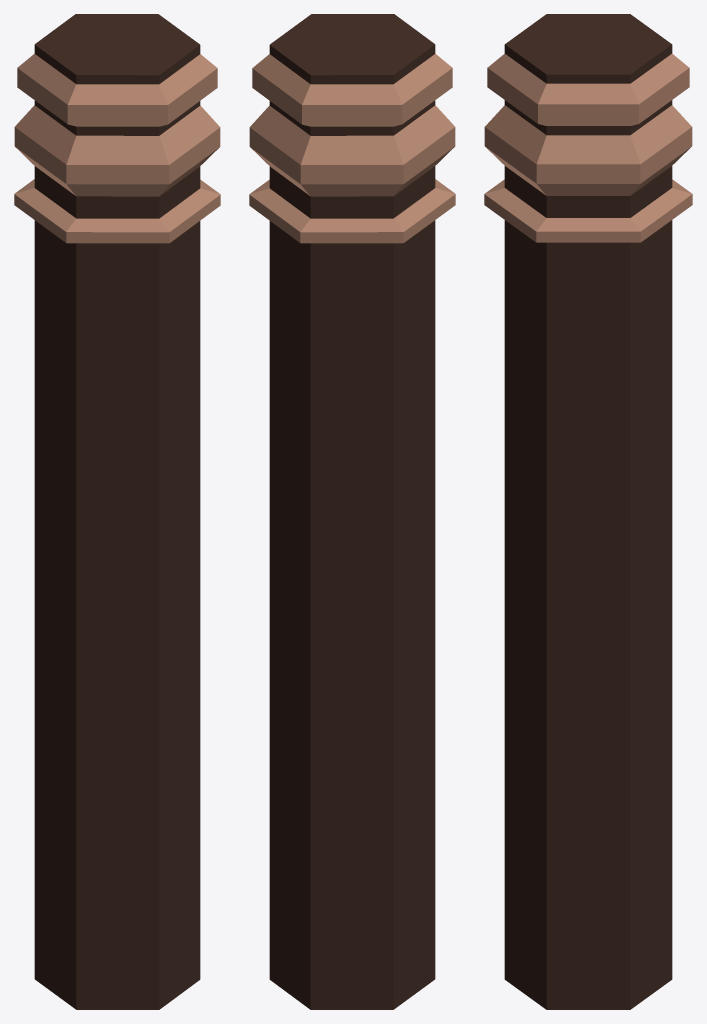
Rendered from Stick.fbx.
3 views of the same model, side by side, from view 1: azimuth 30°, elevation 25°; view 2: azimuth 150°, elevation 25°; view 3: azimuth 270°, elevation 25° (orthographic).
Visible parts, largest first — view 1: Stick; view 2: Stick; view 3: Stick.
Boxes of the visible parts, box(x1,y1,x2,y2) form: Stick: box(14, 14, 220, 1009); Stick: box(249, 14, 455, 1009); Stick: box(484, 14, 692, 1009).
Bounding box in the file's own units: 14.52 × 83.91 × 16.94.
